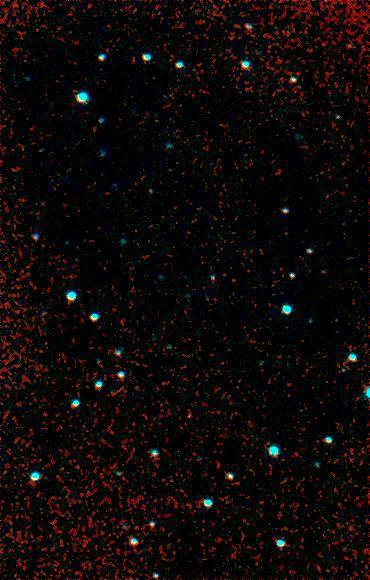star: (170, 400, 200, 430)
